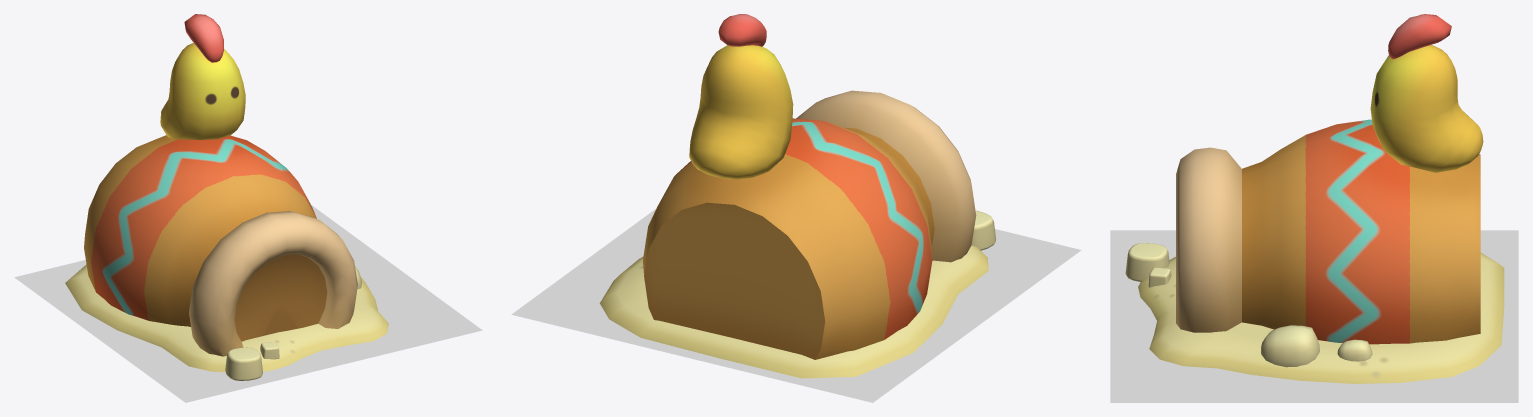
The model's file is VK_JarChick.fbx.
3 views of the same model, side by side, from view 1: azimuth 30°, elevation 25°; view 2: azimuth 150°, elevation 25°; view 3: azimuth 270°, elevation 25° (orthographic). The views are drawn at different scales.
Parts seen in each view (by area): view 1: polySurface41, JarChick_Grid_Large, polySurface39; view 2: polySurface41, JarChick_Grid_Large, polySurface39; view 3: polySurface41, JarChick_Grid_Large, polySurface39.
Boxes of the visible parts, box(x1,y1,x2,y2) form: polySurface41: box(65, 135, 388, 380); JarChick_Grid_Large: box(14, 205, 482, 402); polySurface39: box(160, 14, 245, 140); polySurface41: box(599, 90, 996, 378); JarChick_Grid_Large: box(511, 208, 1081, 402); polySurface39: box(689, 14, 793, 179); polySurface41: box(1125, 119, 1504, 383); JarChick_Grid_Large: box(1110, 230, 1518, 402); polySurface39: box(1370, 14, 1483, 172).
Size of the model in its own units: 2 by 1.66 by 2.
